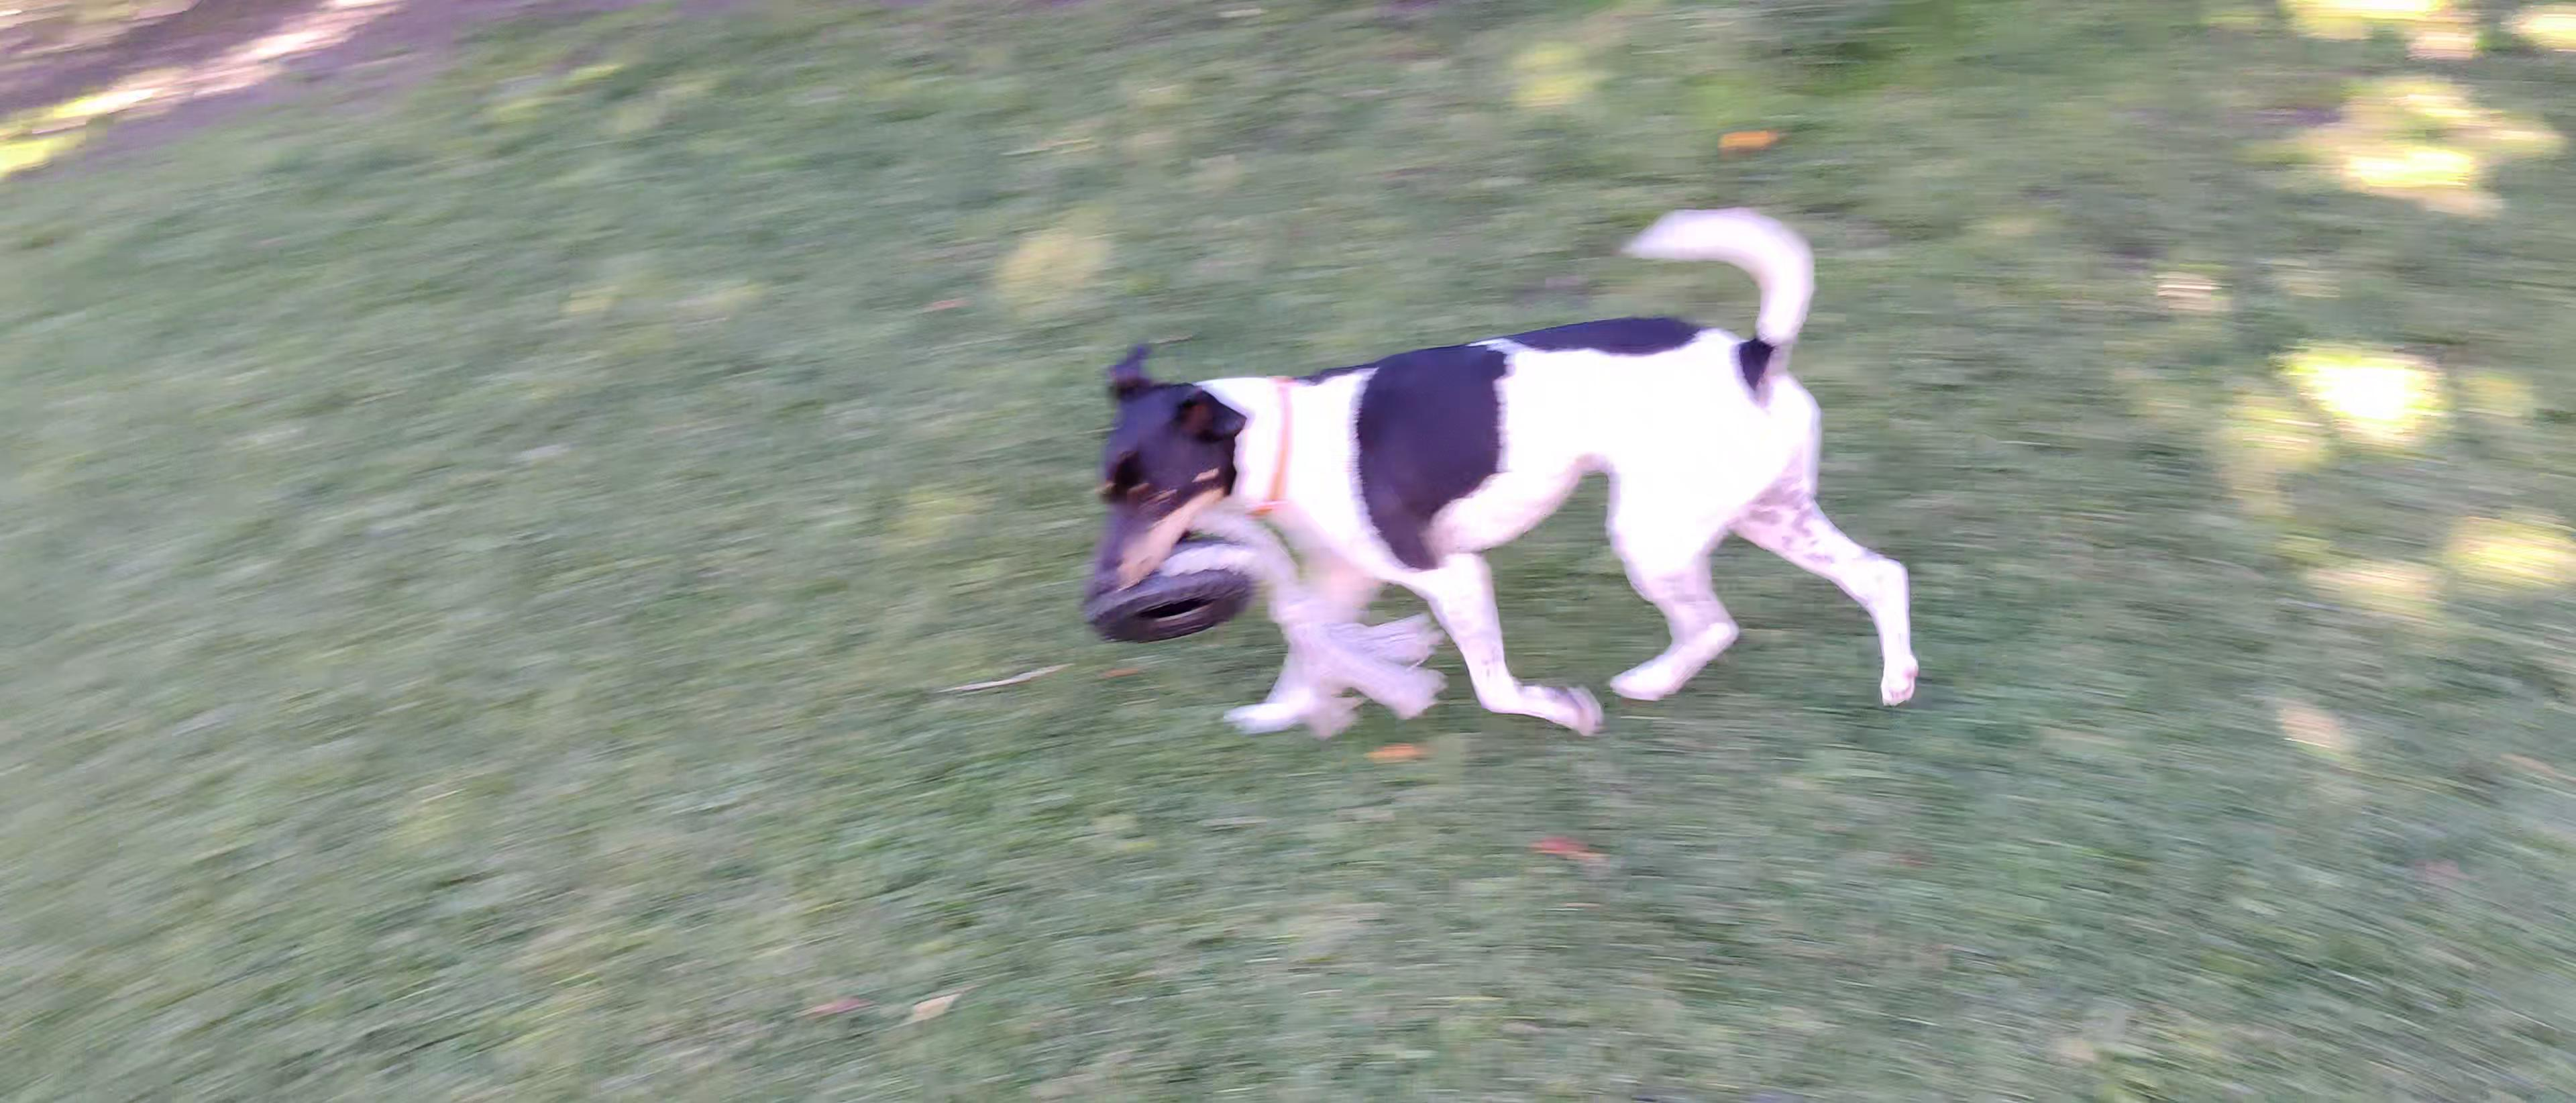Dog: (1060, 168, 1940, 756)
